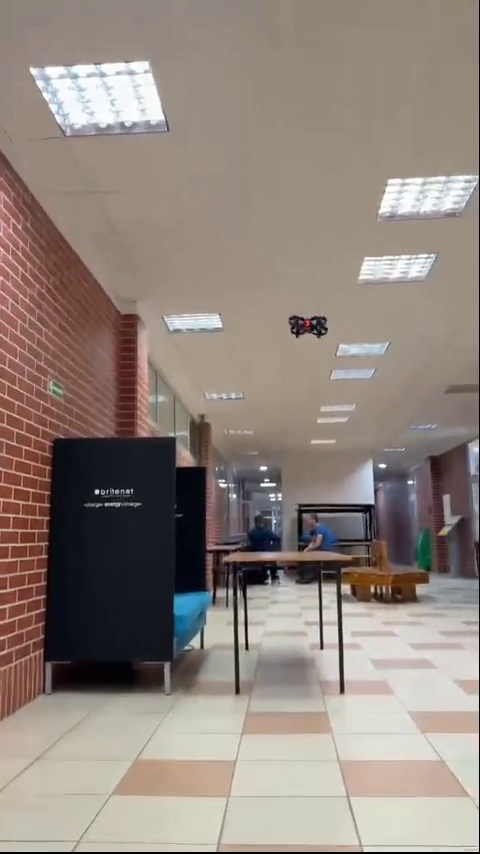drone: (288, 314, 330, 341)
no vest: (248, 506, 288, 559), (301, 514, 331, 554)
